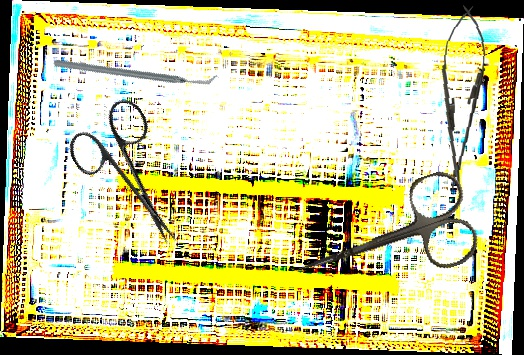Chopper: (52, 0, 219, 142)
Iris Scissors: (282, 166, 485, 313), (59, 93, 210, 265)
Needle Holder: (432, 4, 490, 193)
